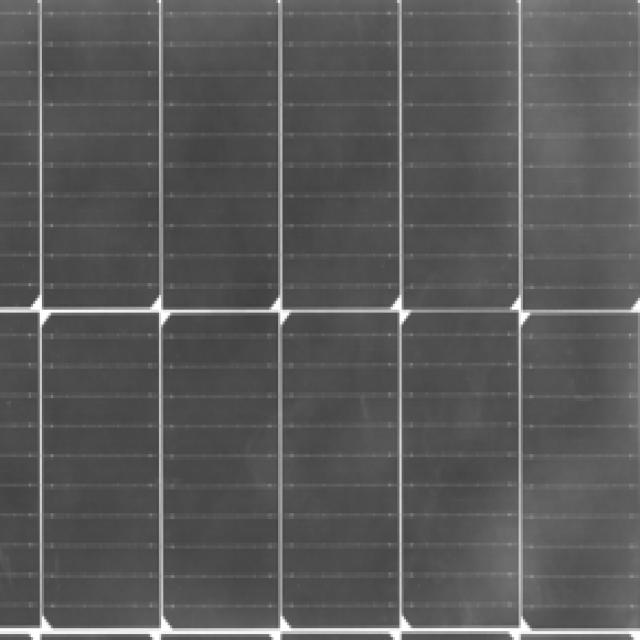CELL SHORT: (412, 300, 634, 328)
